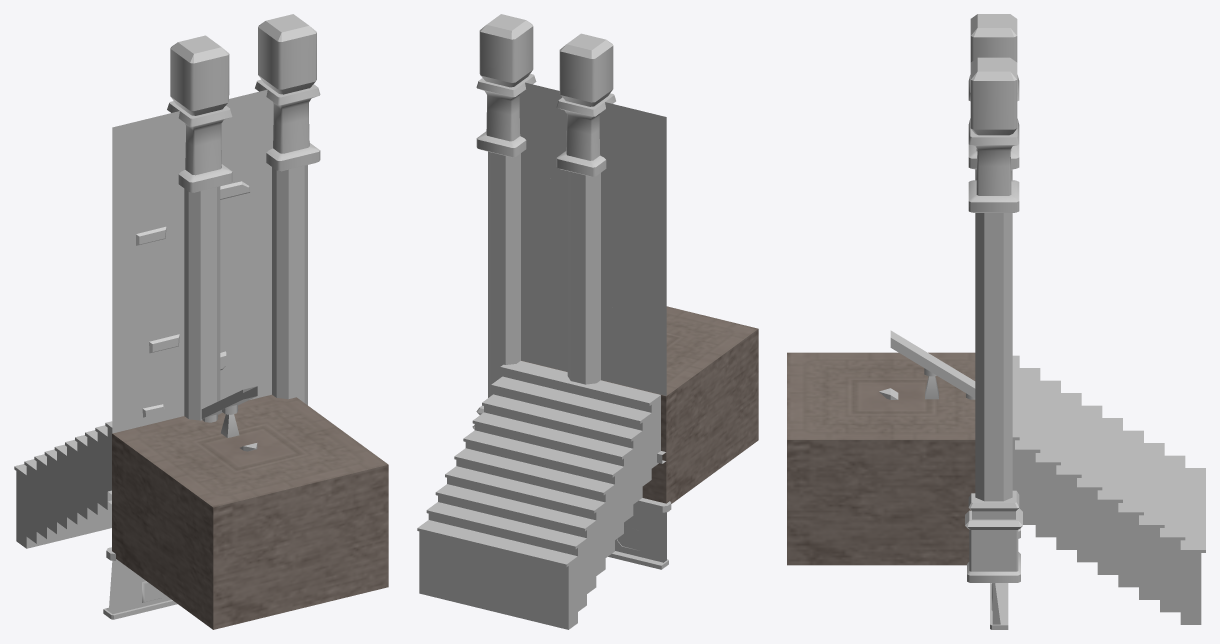
3 renders of one model, left to right at view 1: azimuth 30°, elevation 25°; view 2: azimuth 150°, elevation 25°; view 3: azimuth 270°, elevation 25°, orthographic. The views are drawn at different scales.
Visible parts, largest first — view 1: Box001, B02a_GiEcWm001, B02a_GiVcWm002, B02a_GiVcWm001, B02a_SiCpWm001, B02a_GiEpWm001, B02a_SiEbWm001; view 2: B02a_SiCpWm001, B02a_GiEcWm001, Box001, B02a_GiVcWm002, B02a_GiVcWm001, B02a_GiEpWm001; view 3: Box001, B02a_SiCpWm001, B02a_GiVcWm002, B02a_GiVcWm001, B02a_SiEbWm001, B02a_GiEpWm001.
Boxes of the visible parts, x1,y1,x2,y2 form: Box001: (112,394,388,629); B02a_GiEcWm001: (112,89,273,433); B02a_GiVcWm002: (255,14,320,405); B02a_GiVcWm001: (167,35,232,420); B02a_SiCpWm001: (14,421,112,548); B02a_GiEpWm001: (103,547,177,619); B02a_SiEbWm001: (201,386,257,418); B02a_SiCpWm001: (417,361,660,629); B02a_GiEcWm001: (519,82,666,562); Box001: (521,306,758,503); B02a_GiVcWm002: (472,14,536,429); B02a_GiVcWm001: (556,33,615,384); B02a_GiEpWm001: (608,498,671,569); Box001: (787,352,975,565); B02a_SiCpWm001: (1012,355,1205,624); B02a_GiVcWm002: (965,57,1022,582); B02a_GiVcWm001: (968,14,1020,538); B02a_SiEbWm001: (890,330,975,398); B02a_GiEpWm001: (990,583,1008,629).
Size of the model in its own units: 3.48 by 9.02 by 6.07.
